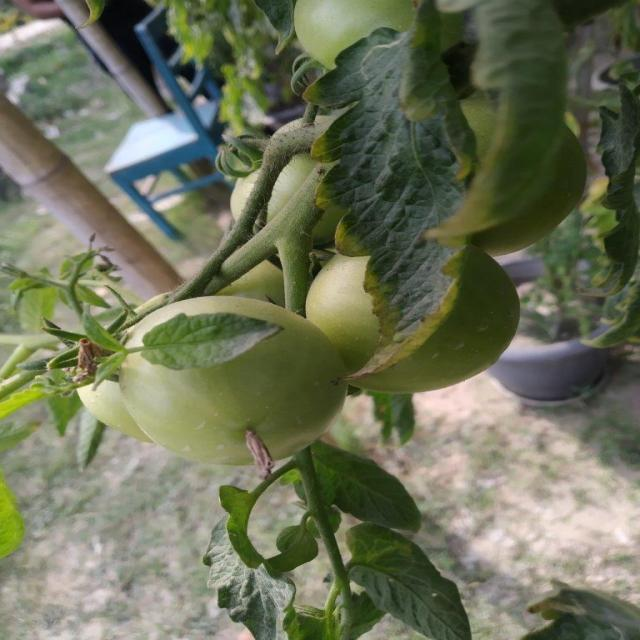Unripe: (124, 298, 348, 465)
